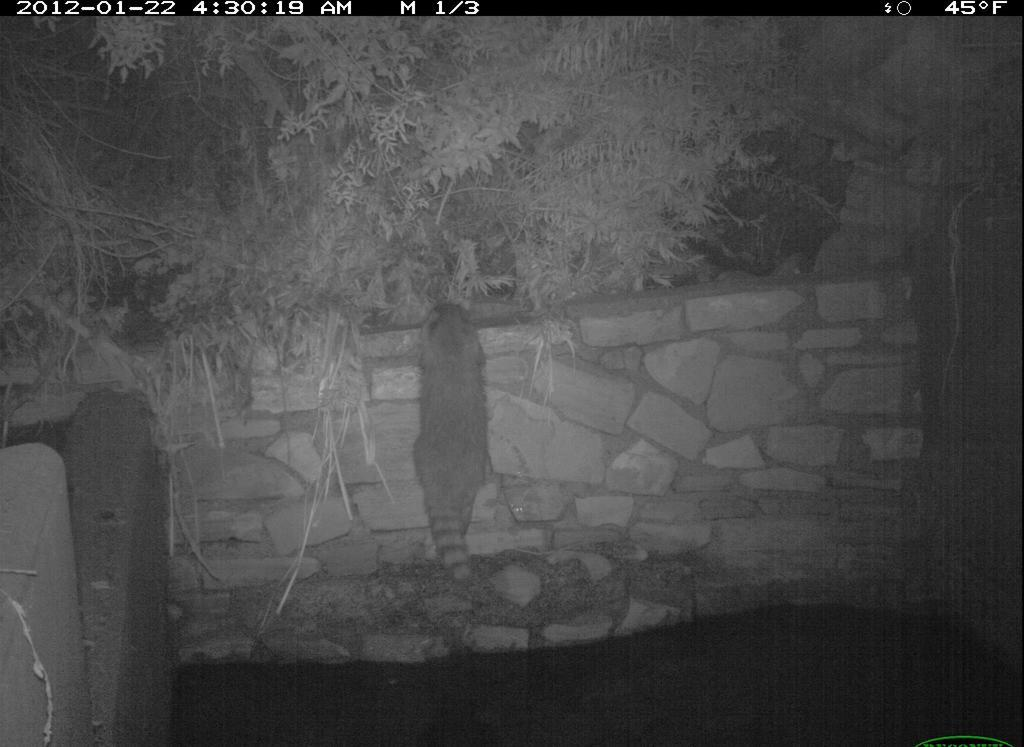raccoon: (405, 289, 501, 591)
